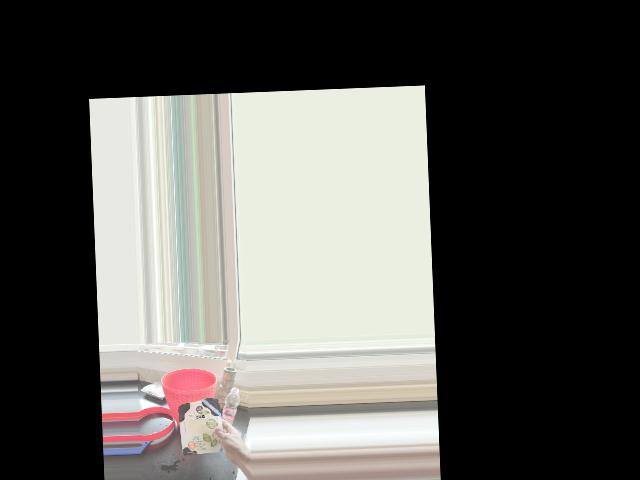cheese: (178, 396, 233, 450)
